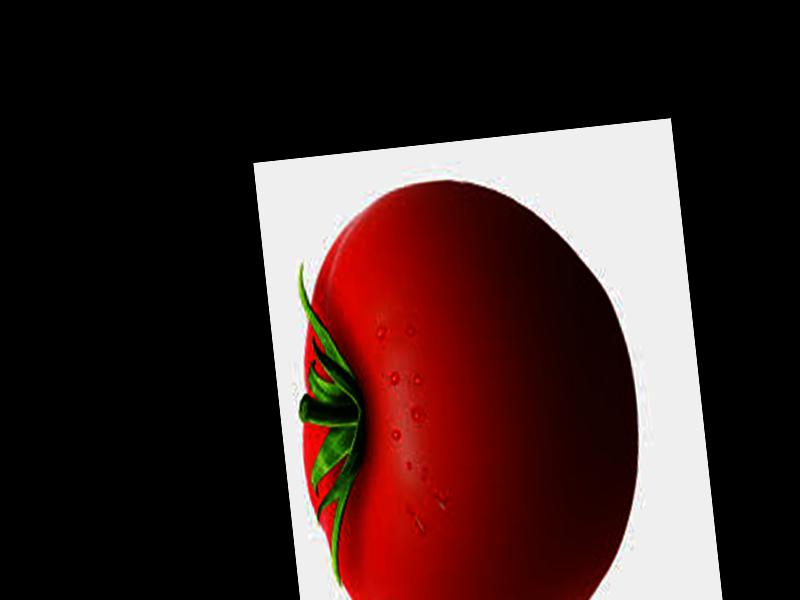Tomato: (276, 163, 656, 600)
